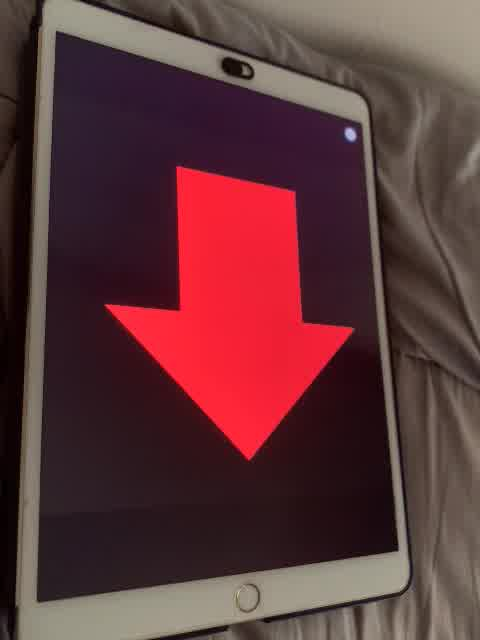down: (104, 158, 355, 478)
